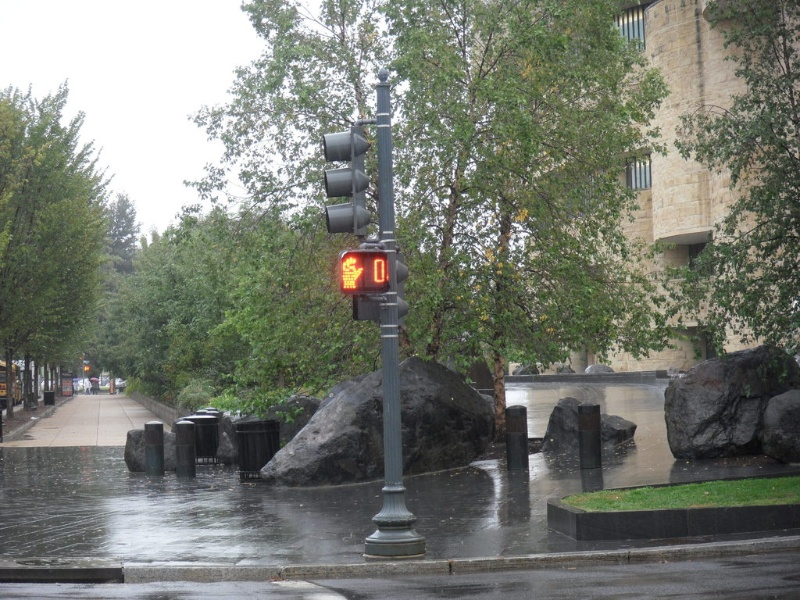yellow_light: (343, 251, 401, 297)
